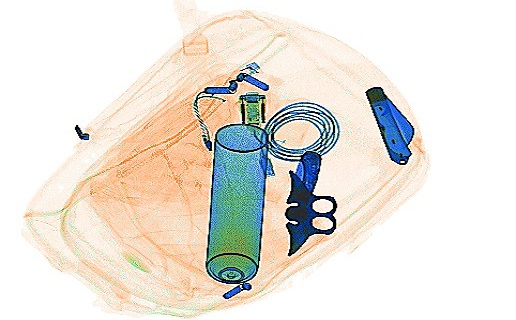knife: (362, 81, 415, 166), (288, 148, 320, 203)
lighter: (195, 59, 261, 95)
pressure: (202, 118, 269, 285)
